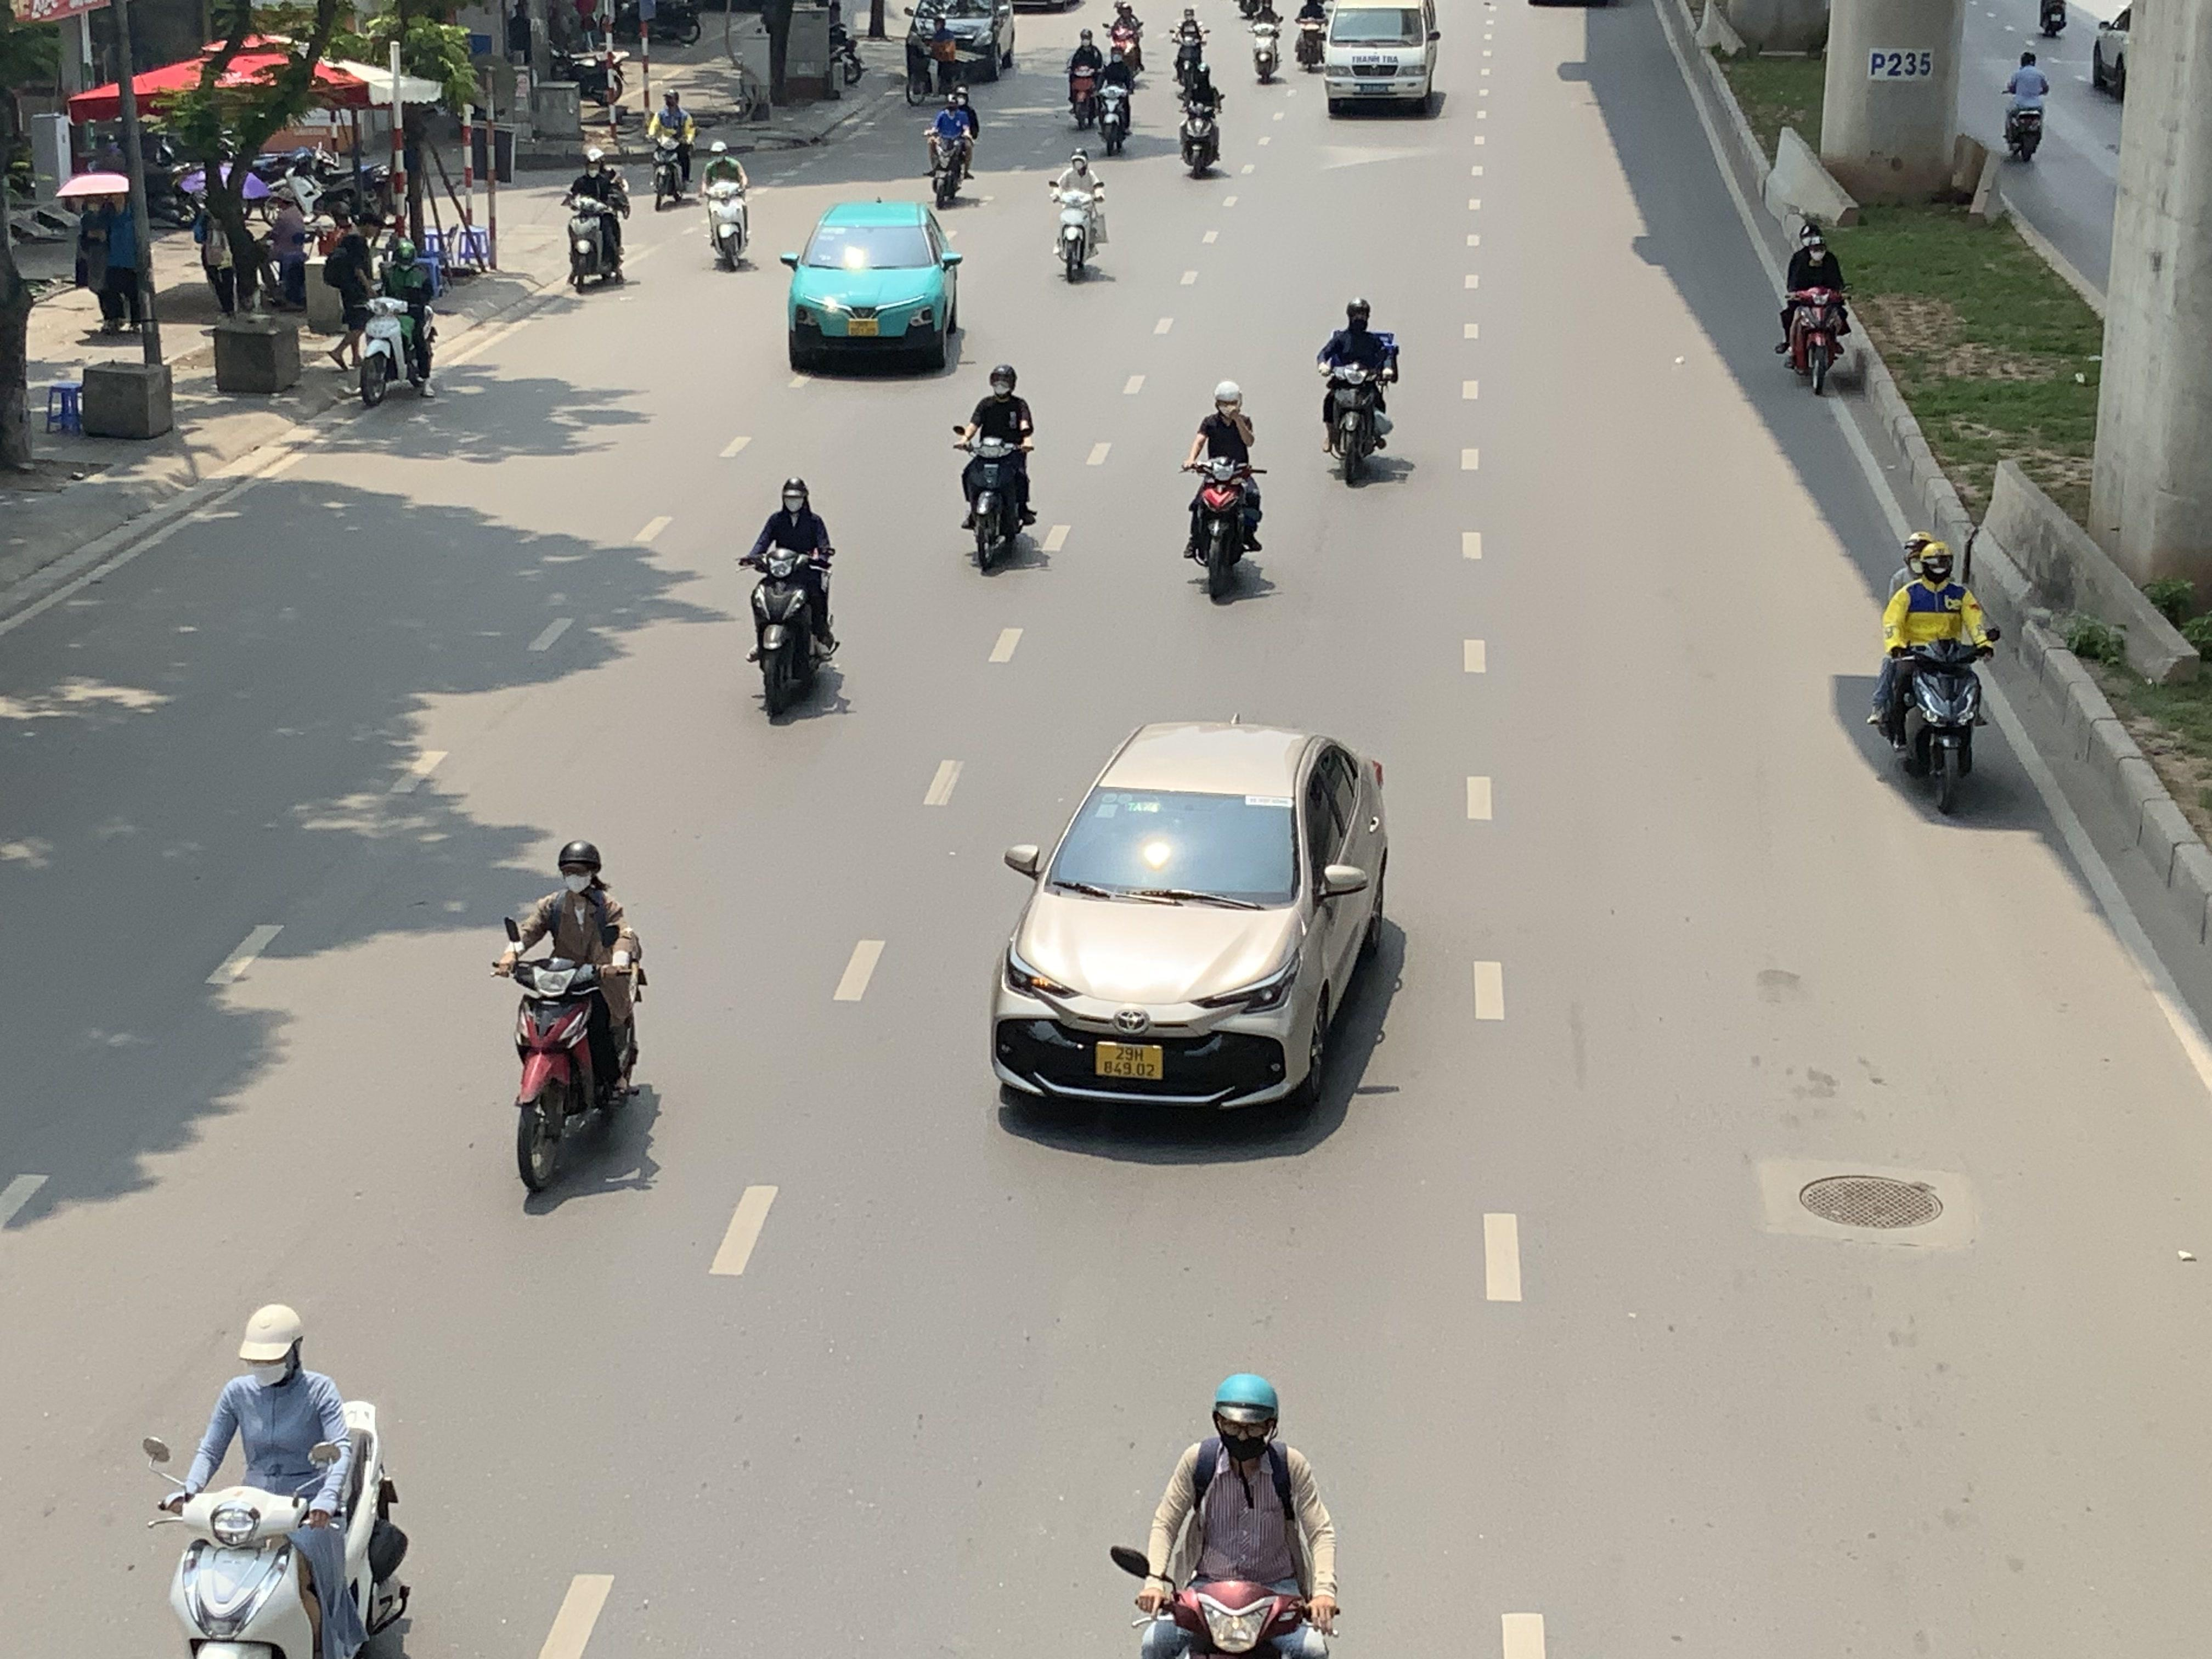BSV: (1096, 1042, 1165, 1080), (848, 319, 878, 336)
car: (991, 720, 1393, 1126), (782, 199, 965, 376), (904, 0, 1017, 82)
motorbike: (148, 1302, 413, 1659), (1111, 1371, 1341, 1659), (493, 840, 646, 1199), (1871, 533, 1998, 819), (742, 476, 840, 725), (1183, 380, 1266, 605), (954, 362, 1038, 575), (352, 220, 441, 408), (1318, 298, 1397, 486), (1777, 216, 1853, 396), (563, 152, 631, 293), (1049, 146, 1108, 282), (702, 141, 754, 272), (925, 87, 979, 207), (1176, 61, 1226, 179), (648, 89, 697, 209), (2000, 47, 2050, 162), (900, 16, 963, 106), (1094, 44, 1137, 157), (1064, 28, 1106, 131), (1245, 0, 1285, 84), (1170, 3, 1211, 87), (1106, 0, 1146, 78), (1291, 0, 1334, 71)
